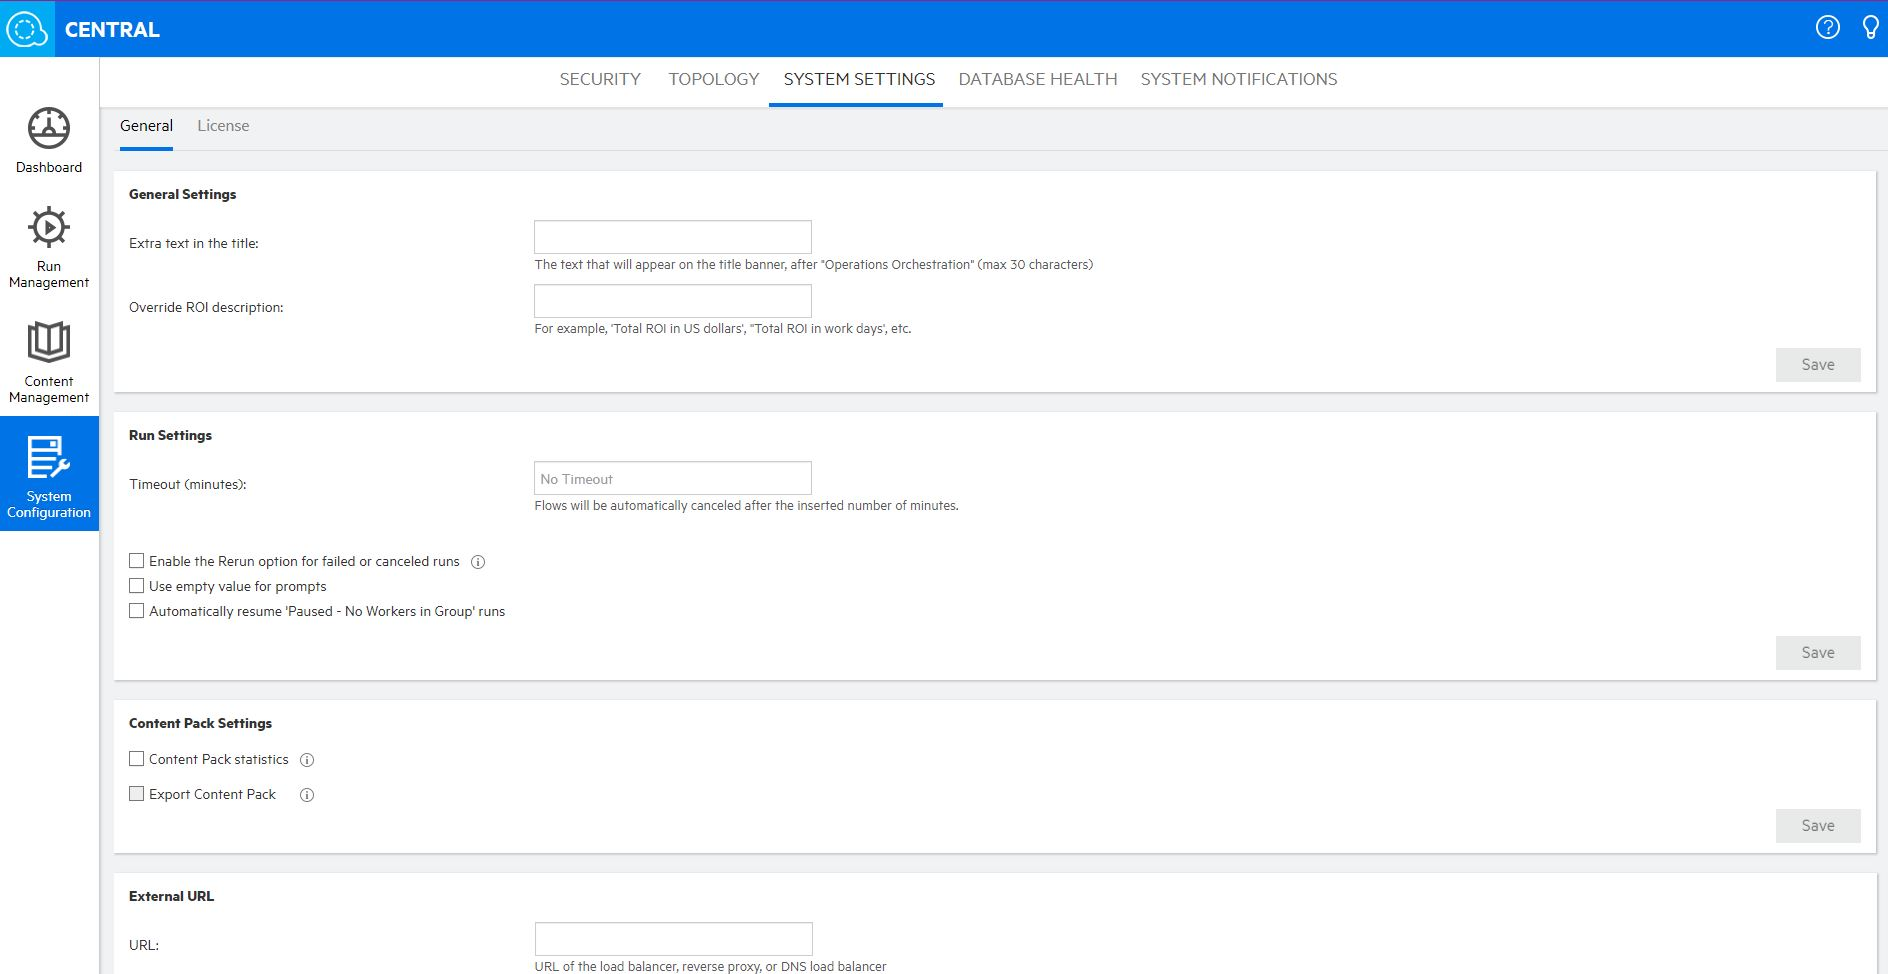button: (1763, 337, 1866, 386), (1763, 627, 1871, 675), (1765, 804, 1871, 849)
checkbox: (117, 598, 150, 625), (119, 574, 150, 596), (125, 779, 147, 808), (125, 552, 150, 575), (125, 748, 148, 767)
textbox: (529, 908, 824, 959), (517, 210, 819, 258), (519, 278, 833, 322), (530, 452, 819, 499)
